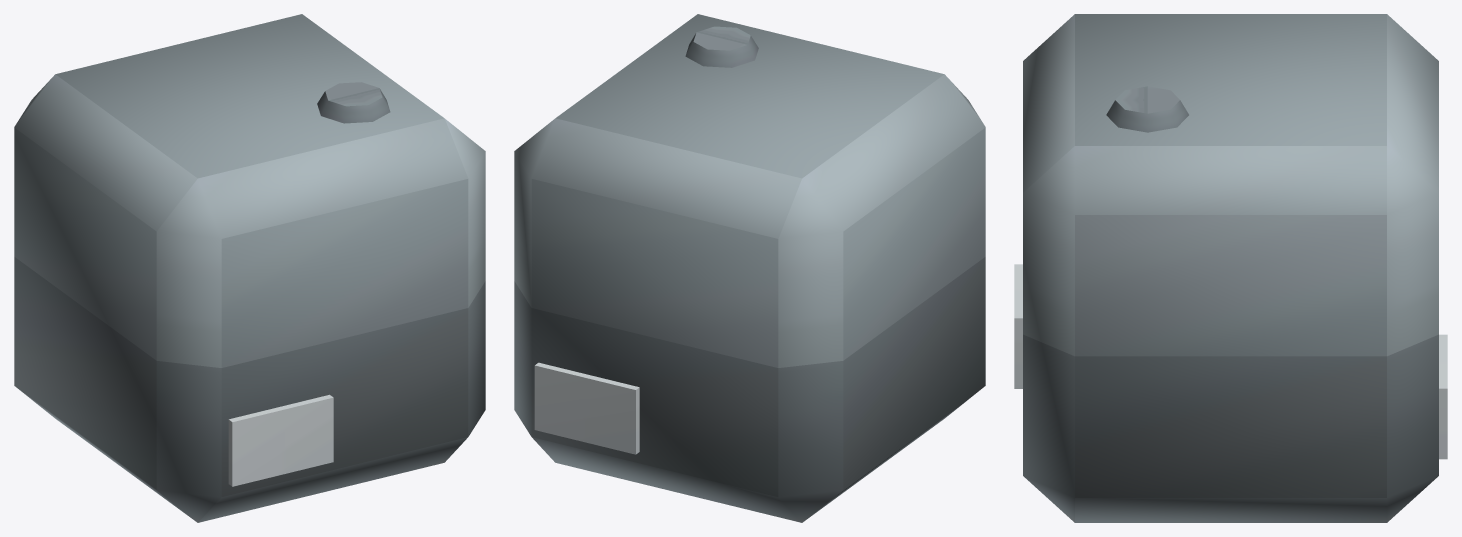
Rendered from cargo_B.glb.
3 views of the same model, side by side, from view 1: azimuth 30°, elevation 25°; view 2: azimuth 150°, elevation 25°; view 3: azimuth 270°, elevation 25° (orthographic). The views are drawn at different scales.
Visible parts, largest first — view 1: cargo_B; view 2: cargo_B; view 3: cargo_B.
Part boxes in pixels (left/top/right/bottom): cargo_B: left=14, top=14, right=485, bottom=522; cargo_B: left=514, top=14, right=985, bottom=522; cargo_B: left=1014, top=14, right=1447, bottom=522.
Size of the model in its own units: 0.5 by 0.52 by 0.5205.
Materials: 1 (1 with a texture image).
